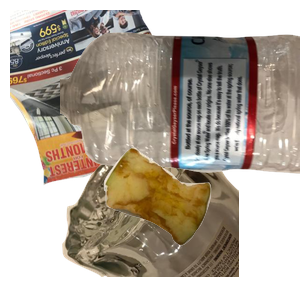glass: (60, 120, 300, 300)
paper: (10, 10, 230, 188)
plastic: (60, 30, 300, 196)
trash: (101, 145, 300, 300)
